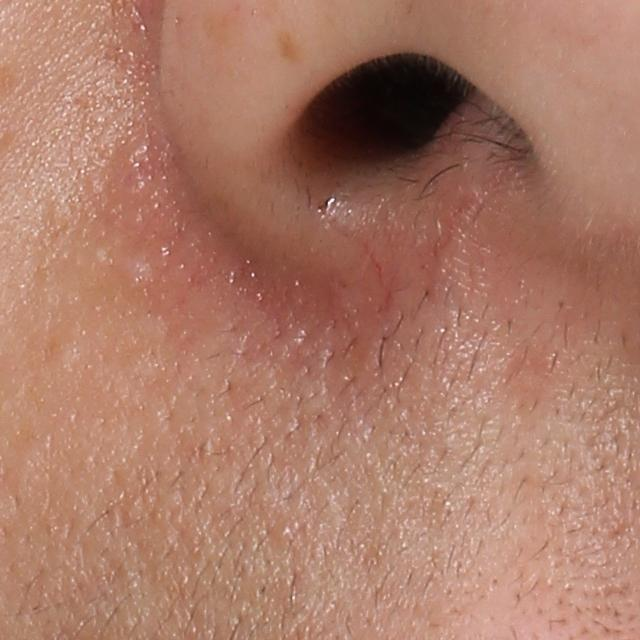melasma: (270, 24, 316, 62)
